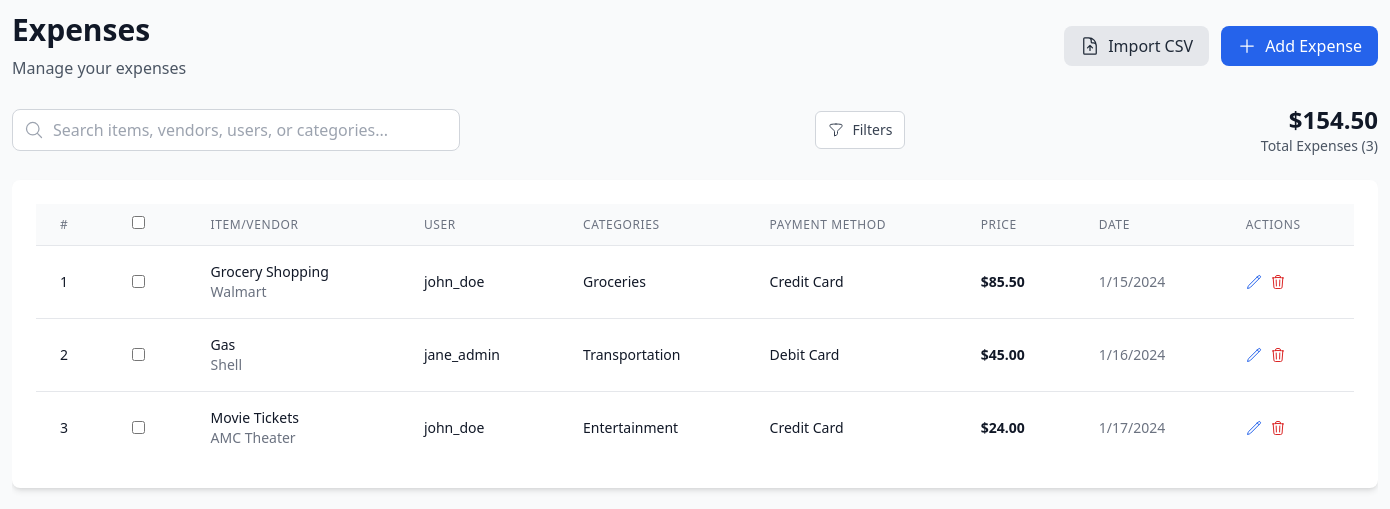
Test: Expenses › Search Functionality › filters expenses by category
The width and height of the screenshot is (1390, 509).
Type "Groceries" into the field with placeholder "Search items, vendors, users, or categories..." at (236, 130), box x1=12 y1=109 x2=460 y2=151
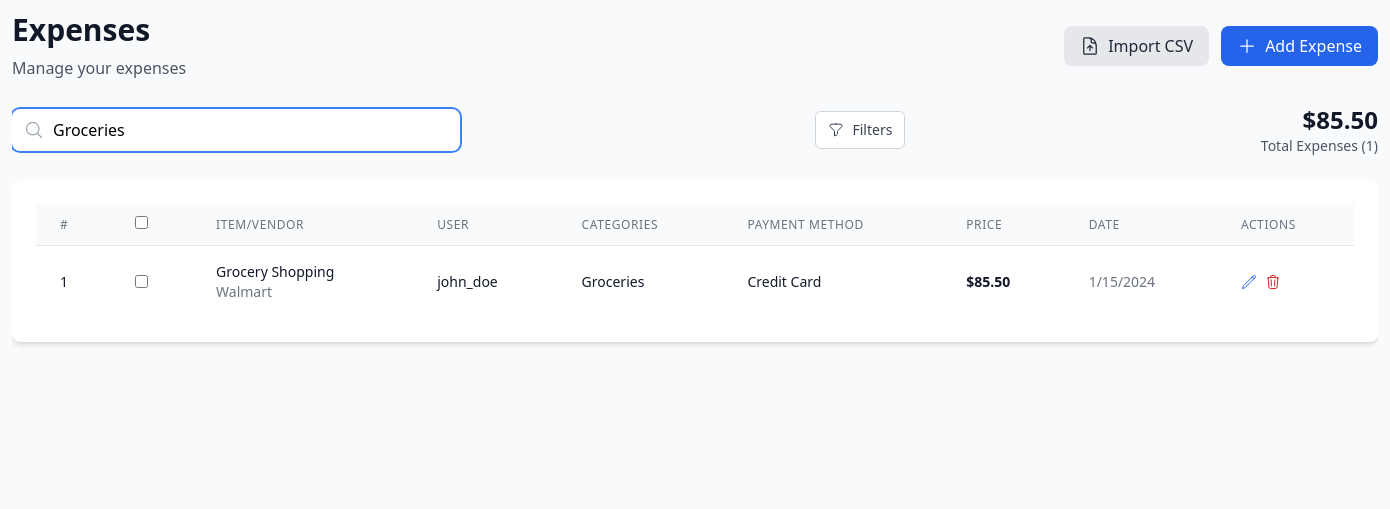
Check: the text "Grocery Shopping" is shown, box x1=216 y1=262 x2=334 y2=281
Check: the text "Gas" is gone
Check: the text "Movie Tickets" is gone
